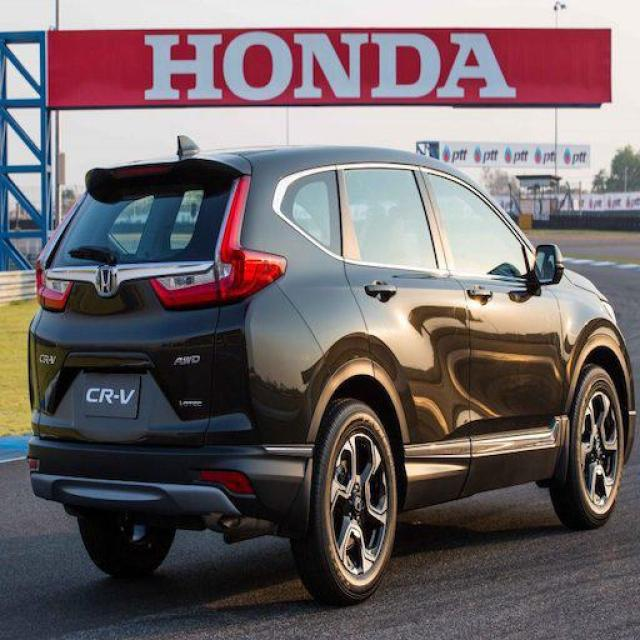back_bumper: (26, 284, 331, 518)
back_glass: (48, 176, 233, 268)
back_left_light: (37, 193, 85, 313)
back_right_door: (337, 162, 468, 444)
back_right_light: (149, 176, 286, 310)
front_right_door: (423, 166, 565, 438)
right_mirror: (531, 244, 565, 286)
tailgate: (35, 260, 220, 448)
wheel: (291, 365, 625, 604)
